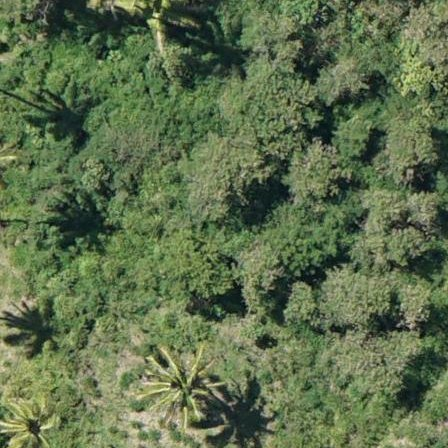palm_tree: (138, 342, 216, 426), (8, 399, 57, 448)
